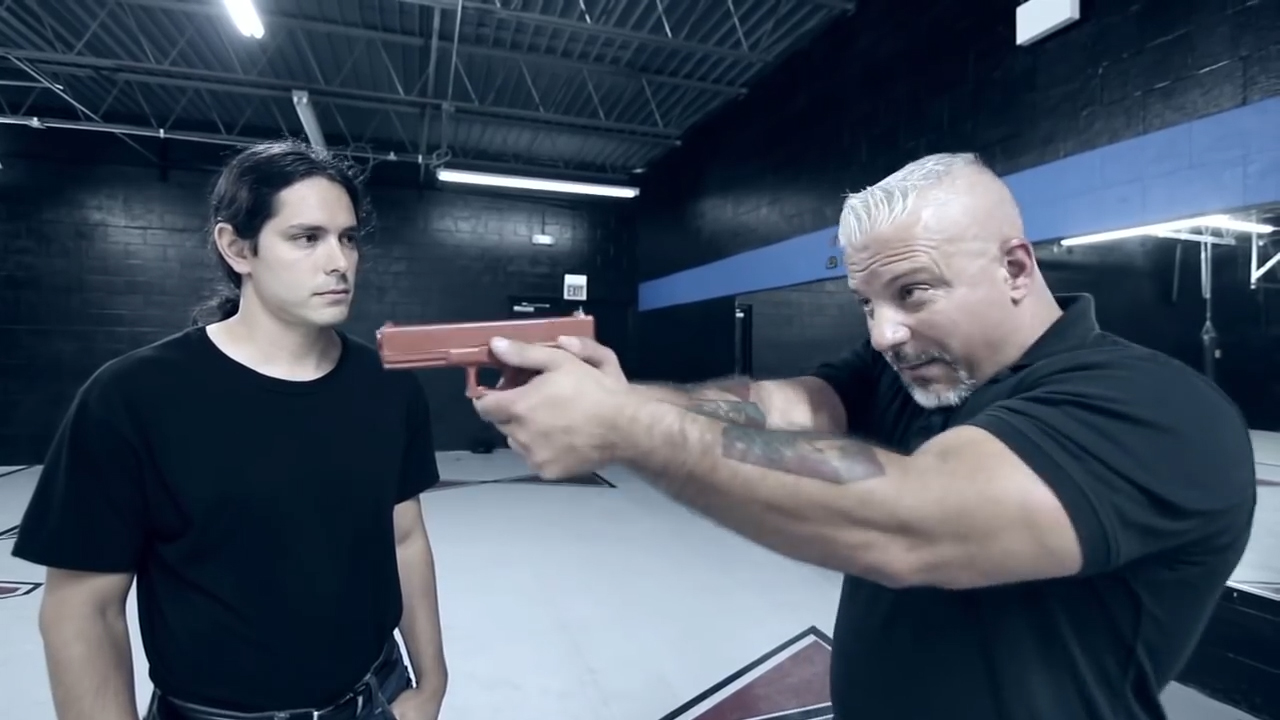pistol: (373, 310, 598, 400)
